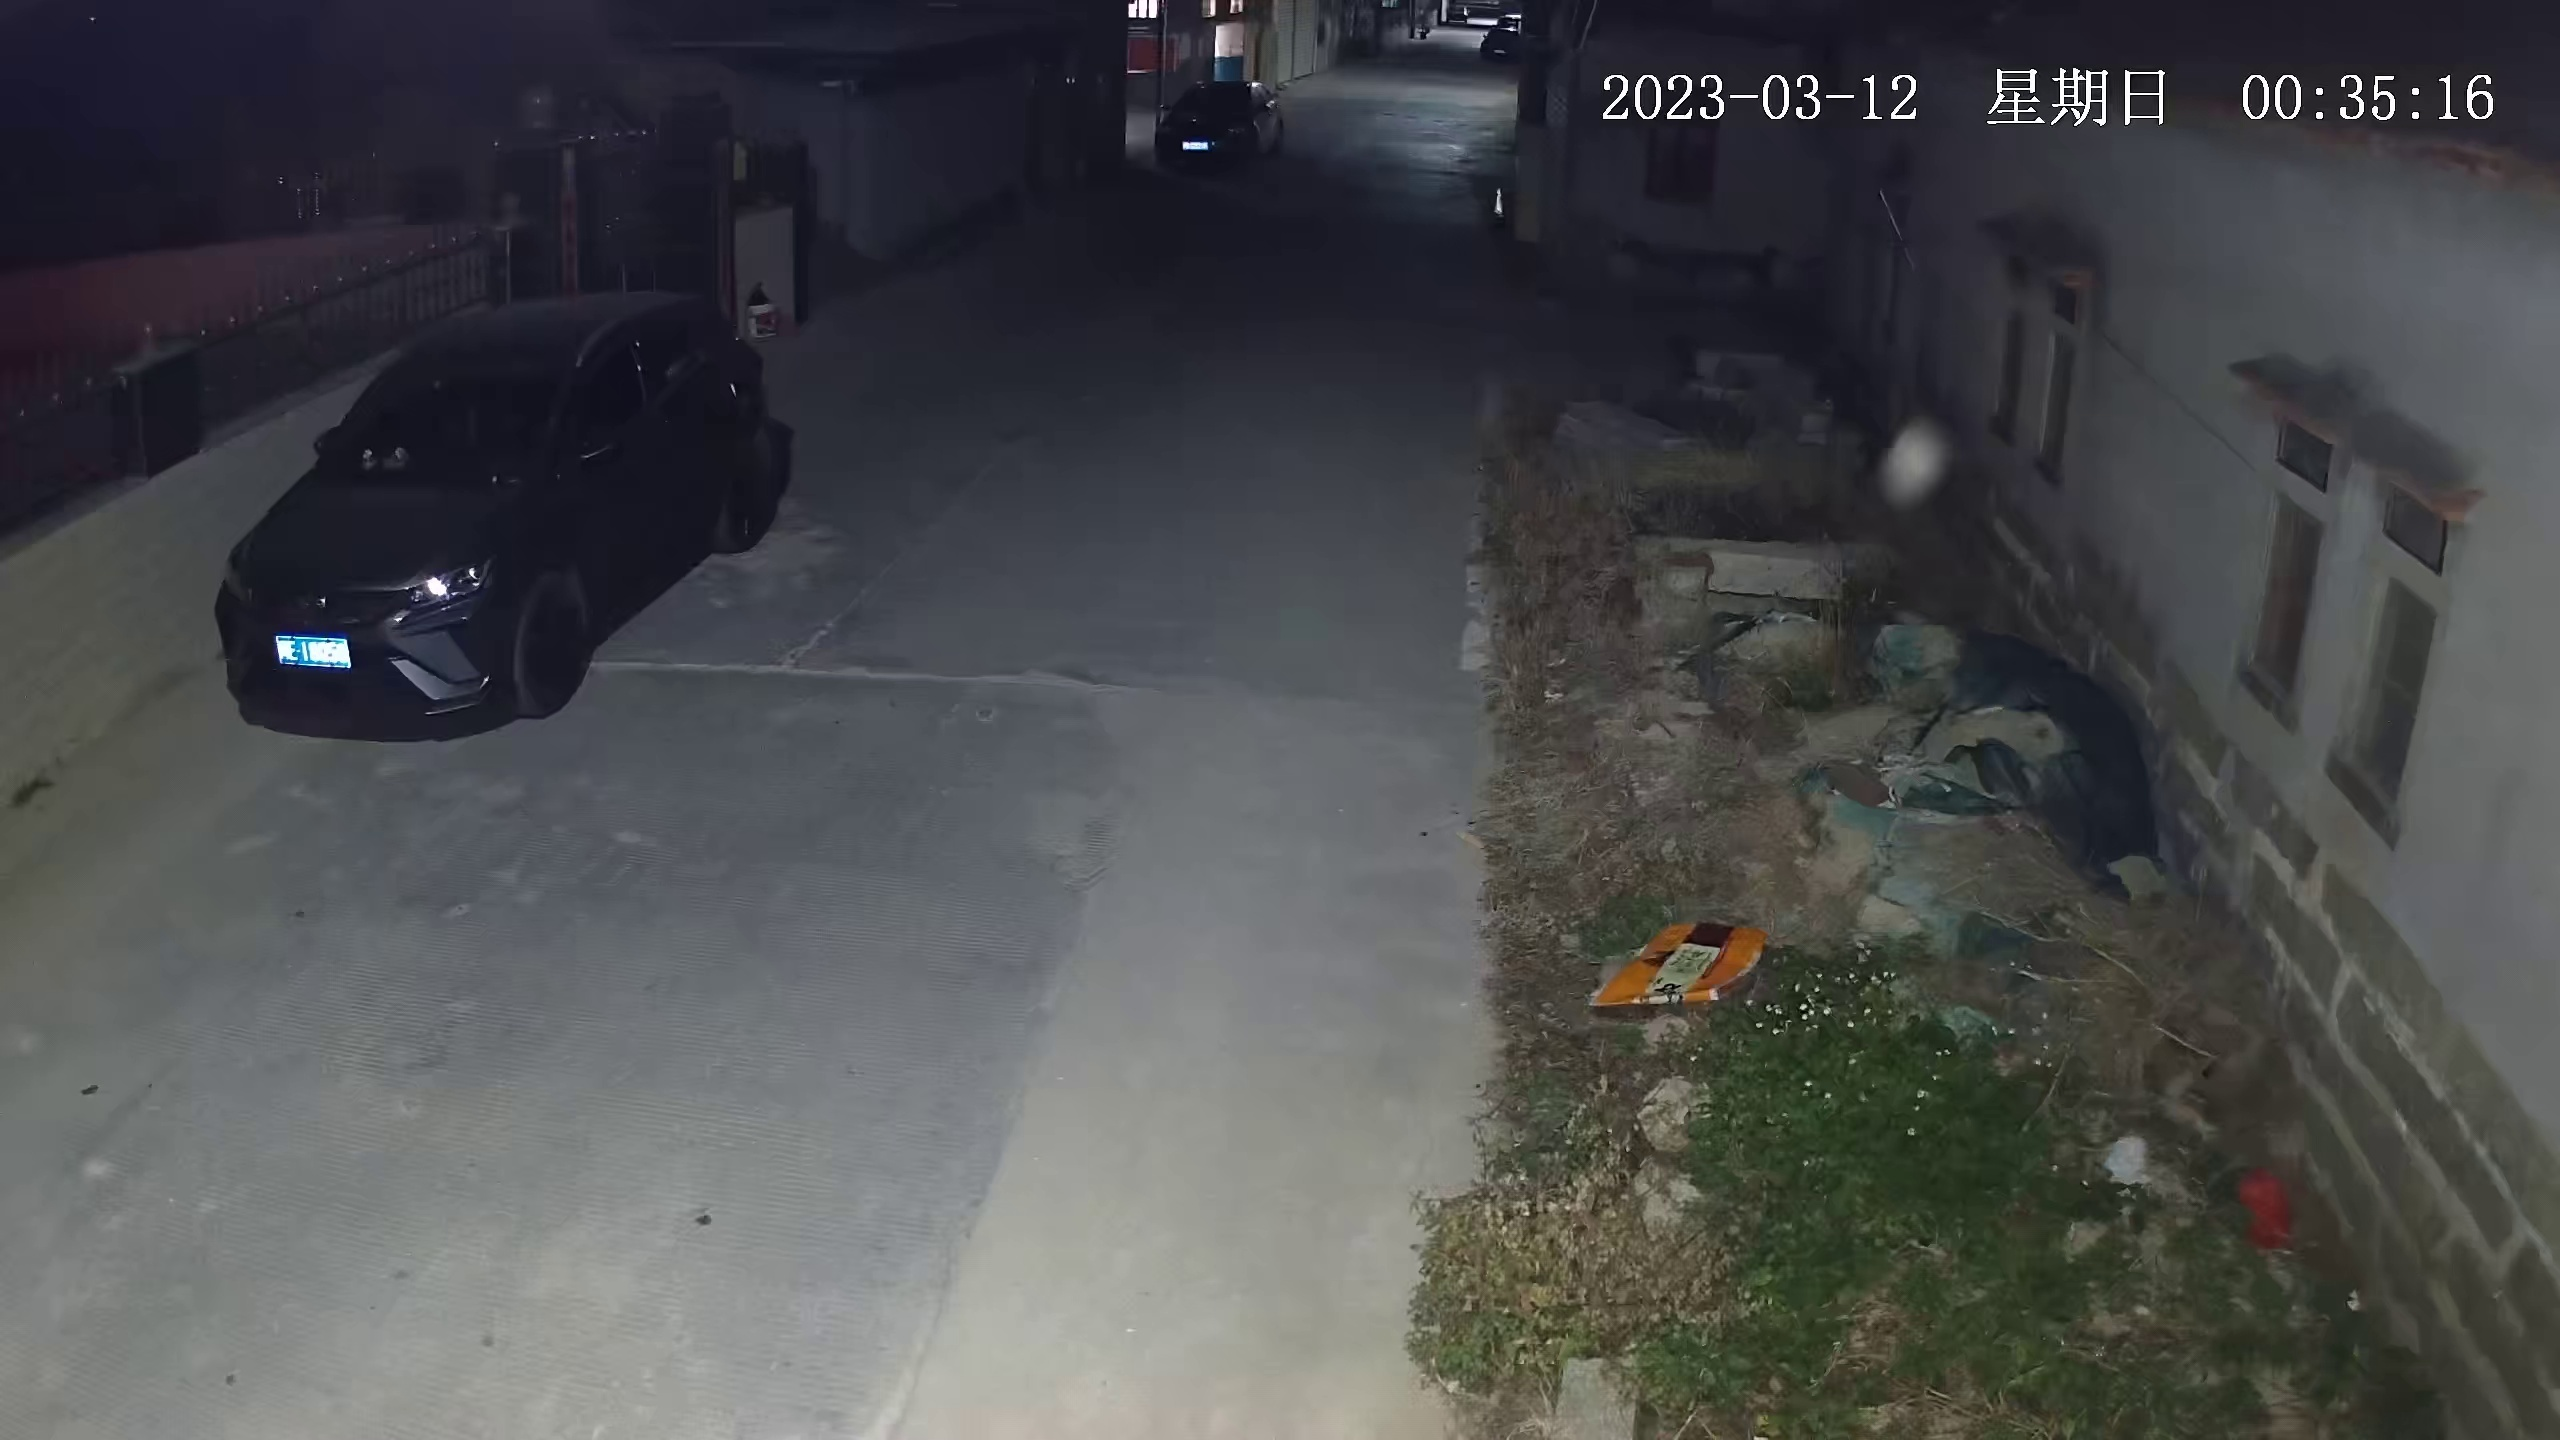sedan: (1153, 77, 1284, 171), (1479, 19, 1524, 67)
suv: (215, 290, 777, 733)
